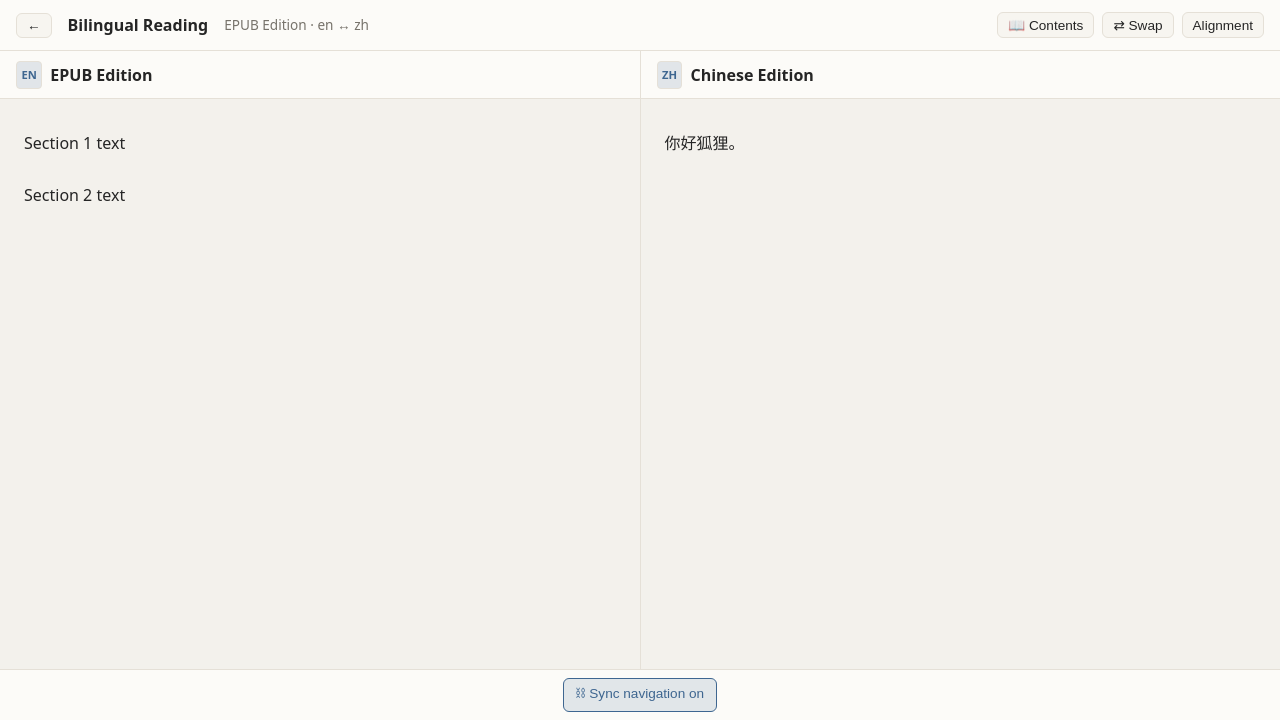
BilingualReader › falls back to Section 1..N when EPUB has no publication TOC
expect the text "Section 1 text Section 2 text" is shown: met, box [24,132,125,206]
Click the button "📖 Contents" at point(1046, 25), box [997,12,1094,38]
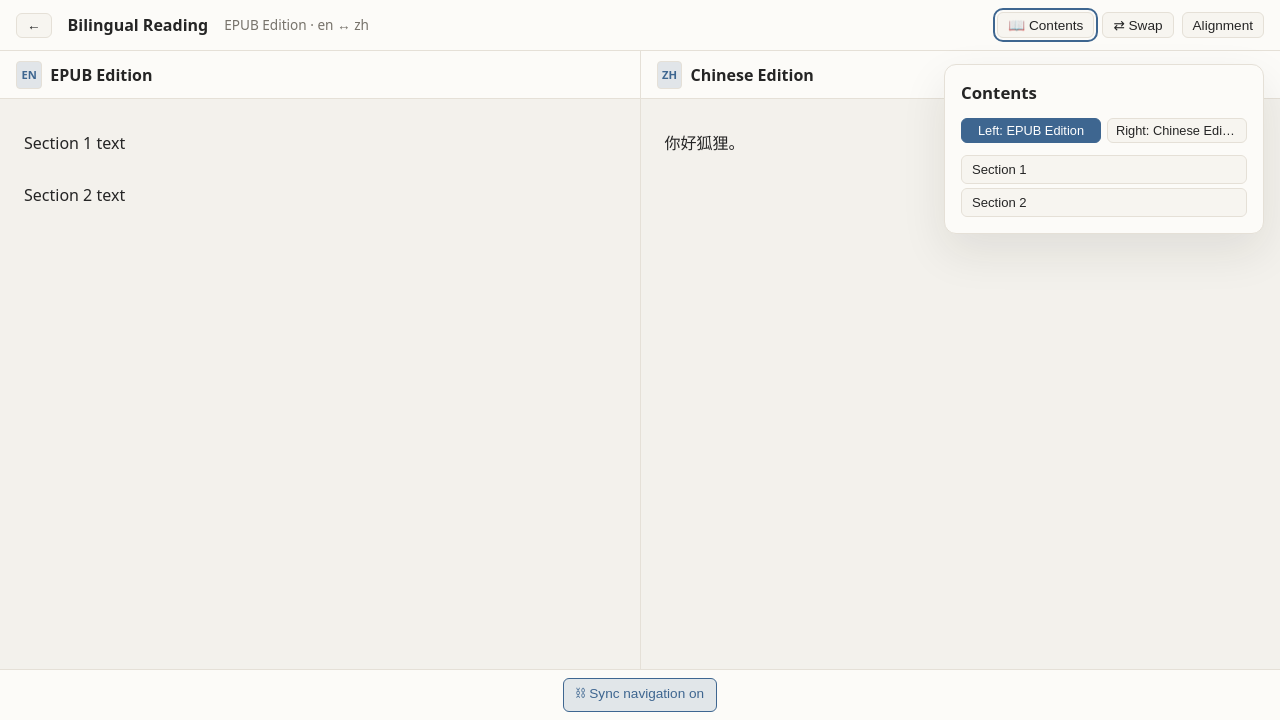
expect the element named "Book Contents" is shown: met, box [944,64,1264,234]
expect the button "Section 1" is shown: met, box [961,155,1247,184]
expect the button "Section 2" is shown: met, box [961,188,1247,217]
